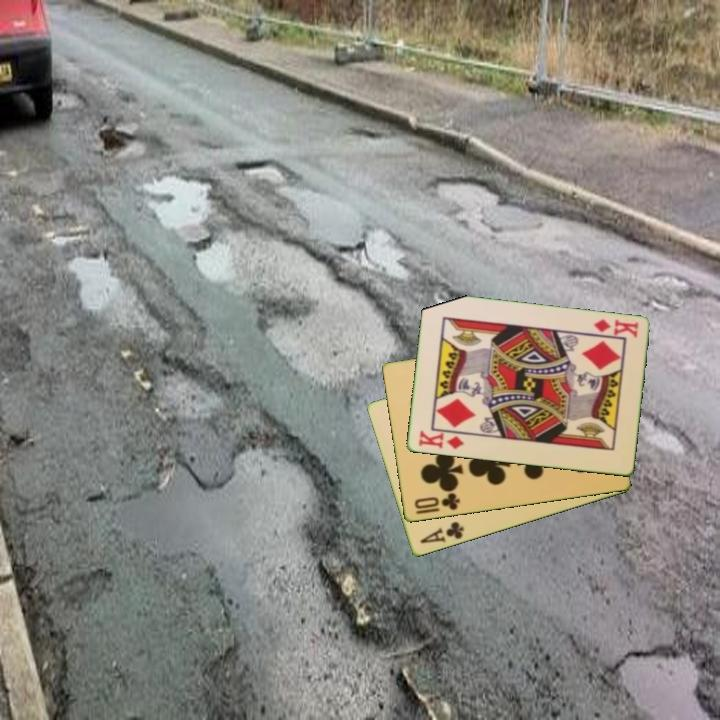10c: (411, 489, 462, 513)
Ac: (417, 518, 467, 547)
Kd: (415, 427, 467, 452), (590, 316, 641, 341)
